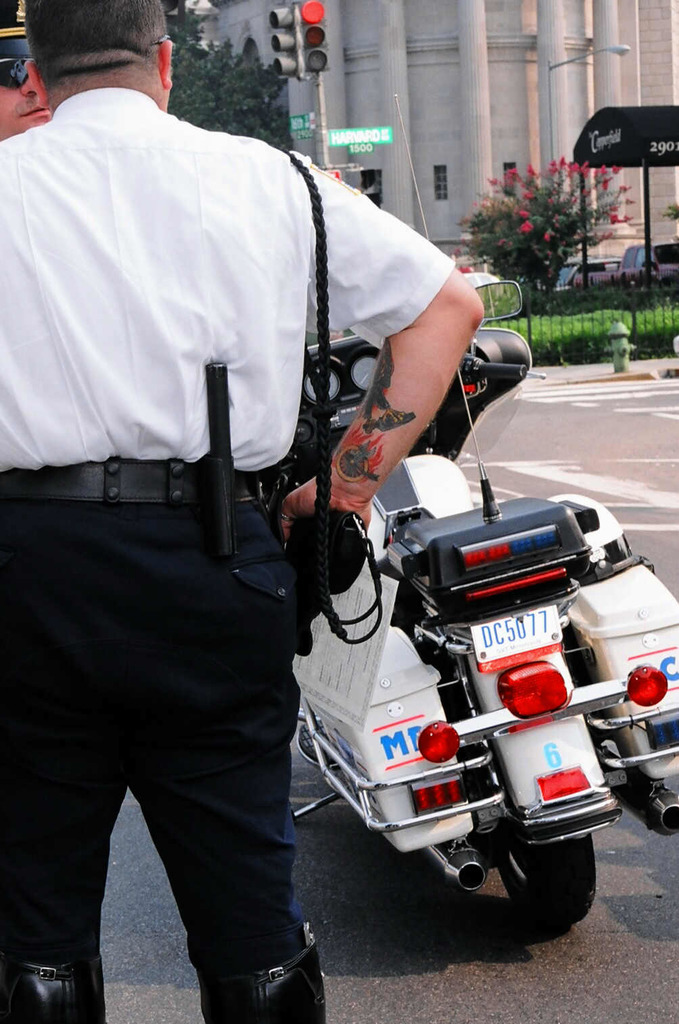Car: (570, 238, 678, 282), (535, 245, 628, 289), (455, 261, 500, 294)
